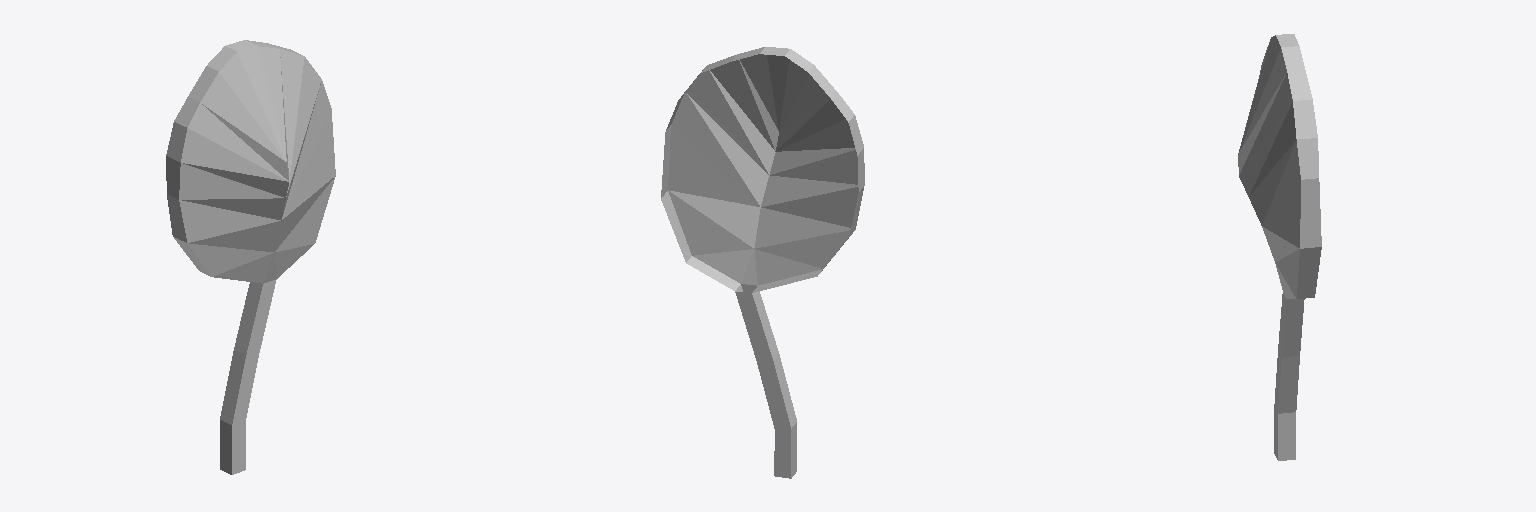
The model's file is arbre10.obj.
3 renders of one model, left to right at view 1: azimuth 30°, elevation 25°; view 2: azimuth 150°, elevation 25°; view 3: azimuth 270°, elevation 25°, orthographic.
Size of the model in its own units: 0.8764 by 1.96 by 0.3535.